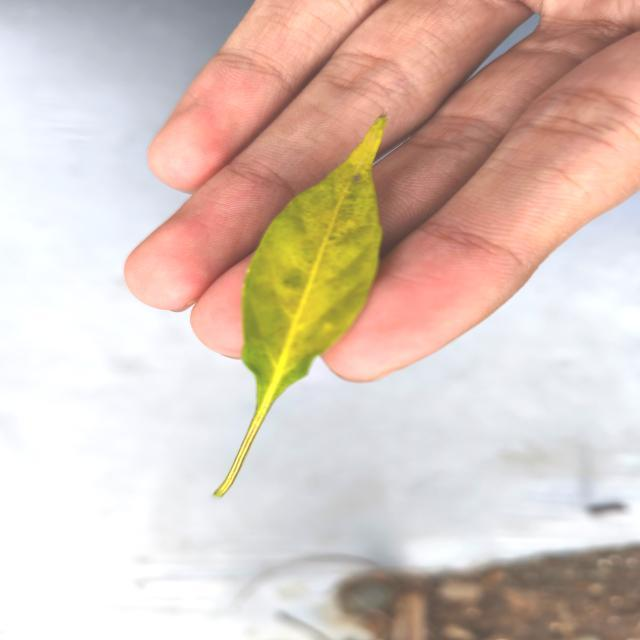Virus Kuning: (238, 114, 392, 399)
